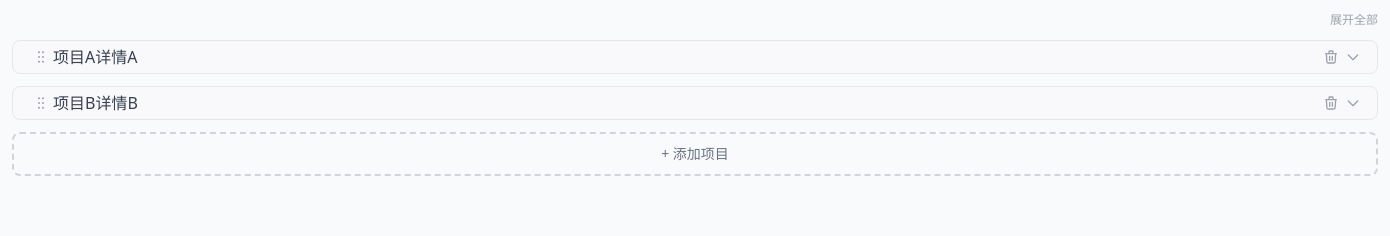
it: DynamicList 折叠/展开功能 › 再次点击已展开的条目将其折叠
Step 1. Click the element with test id "summary-1" → coordinates (95, 57), box [53,46,138,68]
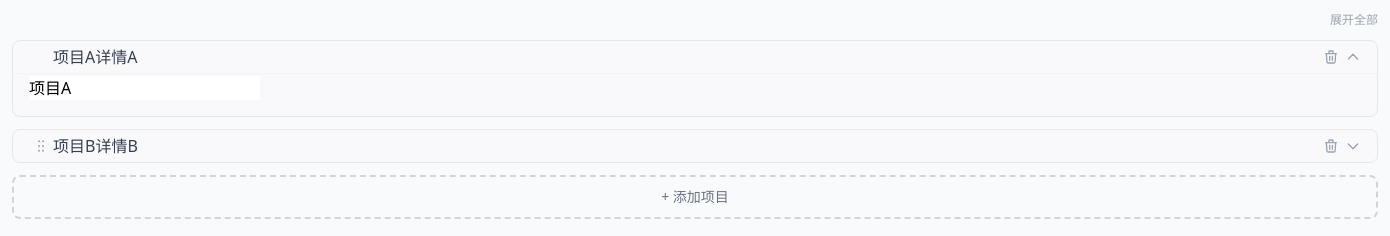
Expected: the element with test id "detail-1" is shown, [29,76,260,100]
Step 2. Click the element with test id "summary-1" → coordinates (95, 57), box [53,46,138,68]
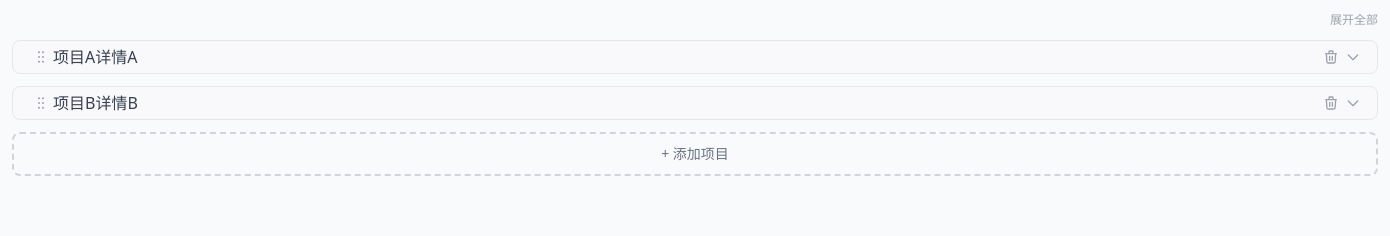
Expected: the element with test id "detail-1" is gone
